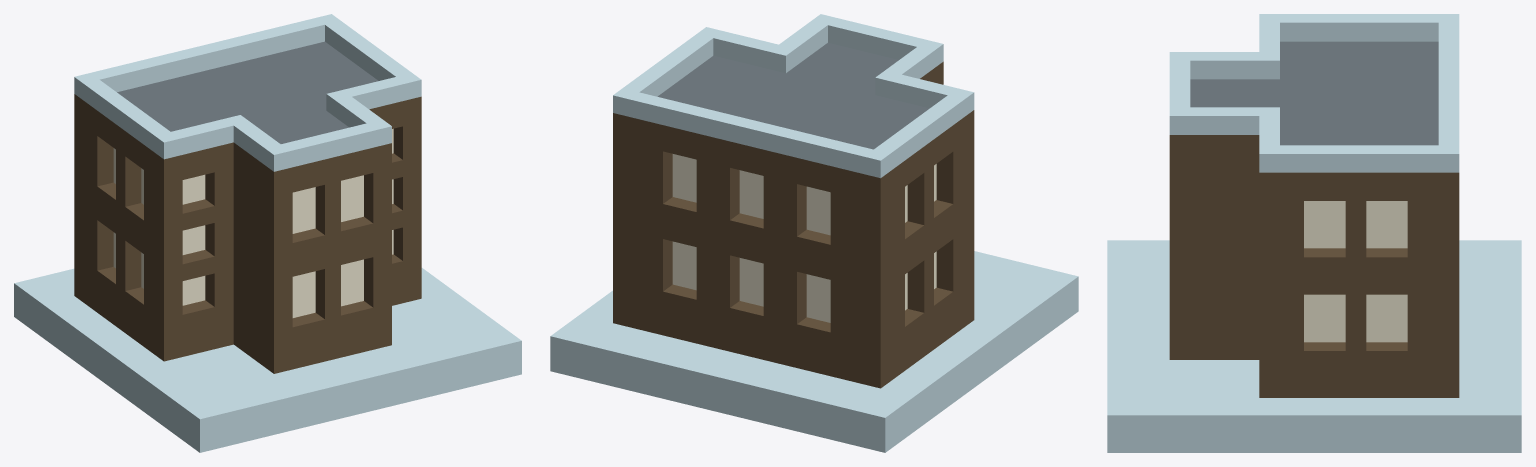
The model's file is Building_12_Base (Brown).obj.
3 views of the same model, side by side, from view 1: azimuth 30°, elevation 25°; view 2: azimuth 150°, elevation 25°; view 3: azimuth 270°, elevation 25° (orthographic). The views are drawn at different scales.
Visible parts, largest first — view 1: Building_12_Base_(Brown); view 2: Building_12_Base_(Brown); view 3: Building_12_Base_(Brown).
Part boxes in pixels (<box>): Building_12_Base_(Brown): <box>14,14,521,452</box>; Building_12_Base_(Brown): <box>550,14,1078,452</box>; Building_12_Base_(Brown): <box>1107,14,1521,452</box>.
Size of the model in its own units: 2 by 1.5 by 2.
